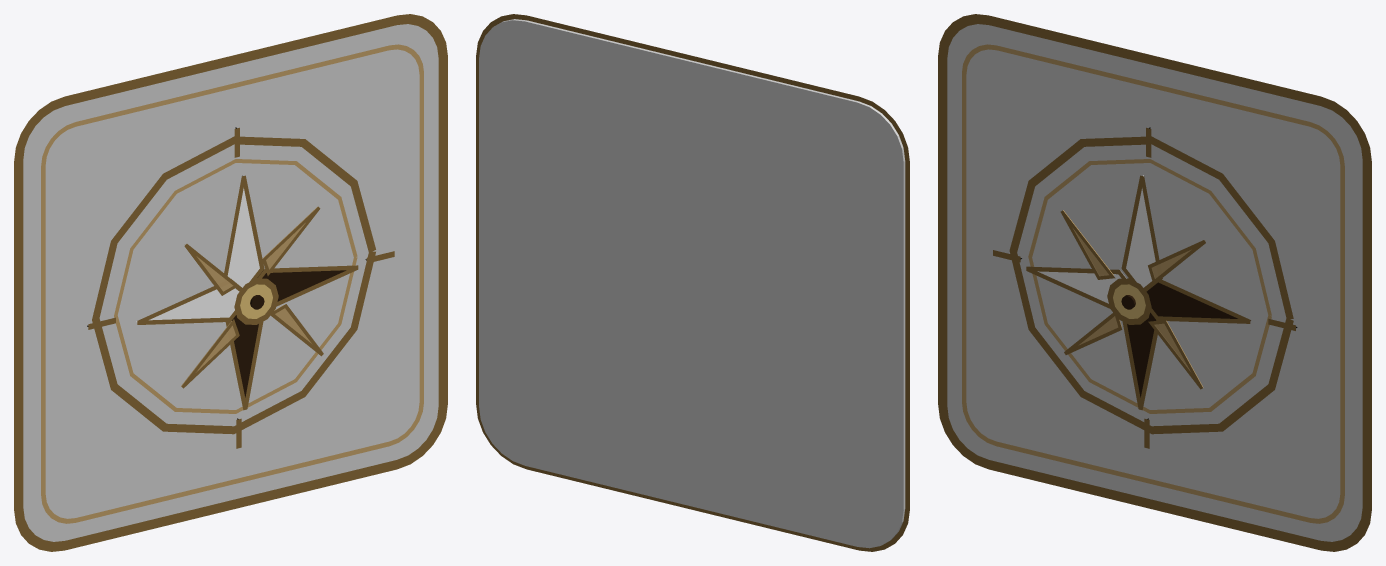
Rendered from obj-kompas-puti.glb.
3 renders of one model, left to right at view 1: azimuth 30°, elevation 25°; view 2: azimuth 150°, elevation 25°; view 3: azimuth 330°, elevation 25°, orthographic.
Visible parts, largest first — view 1: obj-kompas-puti; view 2: obj-kompas-puti; view 3: obj-kompas-puti.
Boxes of the visible parts, x1=… form: obj-kompas-puti: x1=14, y1=14, x2=447, y2=551; obj-kompas-puti: x1=476, y1=14, x2=909, y2=551; obj-kompas-puti: x1=938, y1=14, x2=1371, y2=551.
Size of the model in its own units: 0.3917 by 0.3917 by 0.045.
